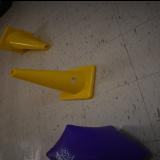cone: (10, 64, 96, 99), (0, 26, 50, 52)
cube: (46, 123, 148, 160)
